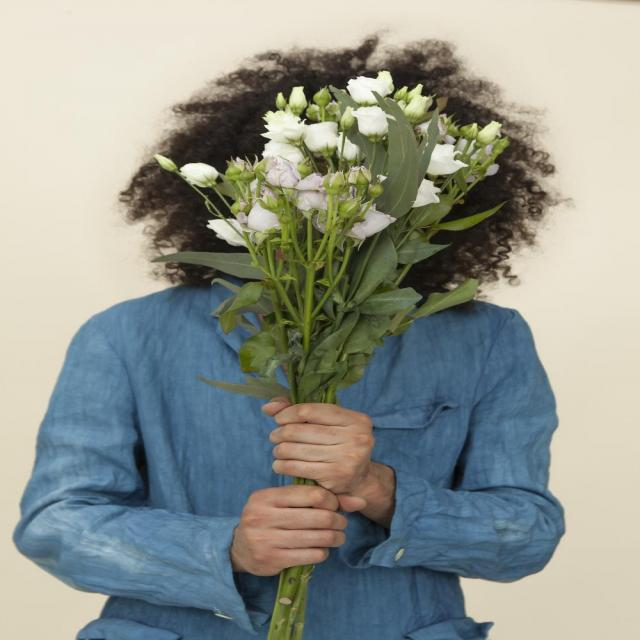organic waste: (176, 64, 491, 296)
